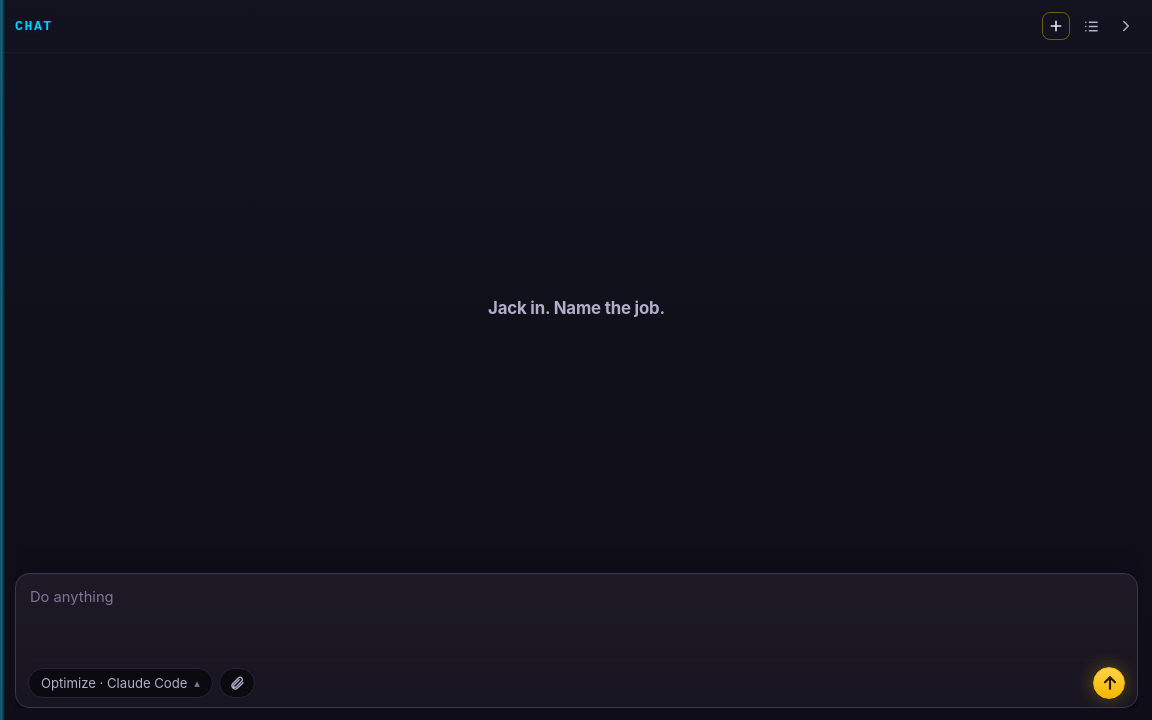
it: ChatSidebar › reopens a synced session from the merged session list and closes the panel
Click the button named "Session history": (1090, 26) 1076,12 -> 1104,40
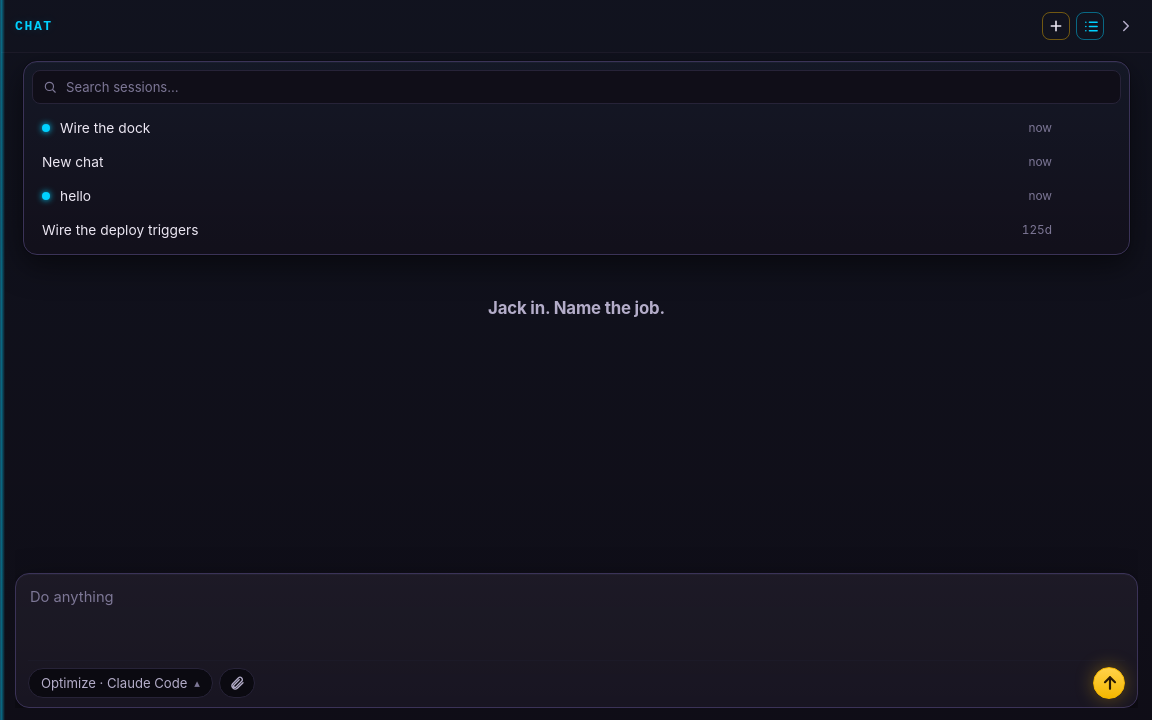
Click the text "Wire the deploy triggers": (120, 230) 42,222 -> 198,238
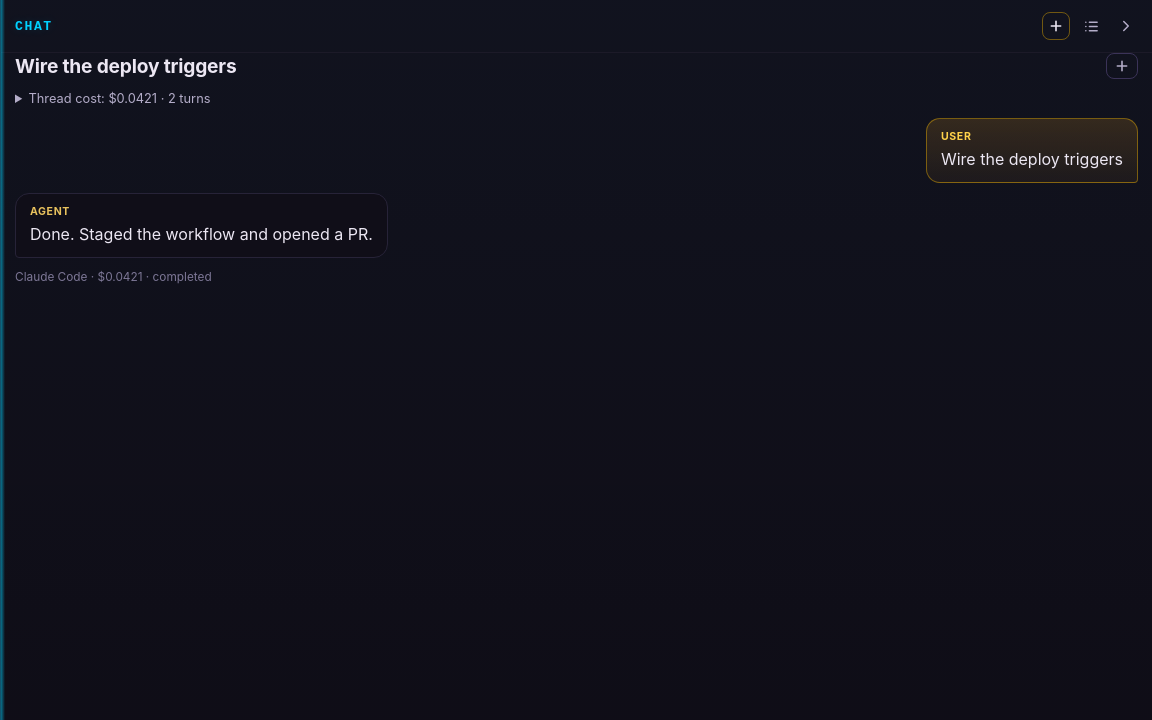
expect the text "Done. Staged the workflow and opened a PR." is shown: met, box 30,222 -> 373,246
expect the button "Sessions" is gone: met
